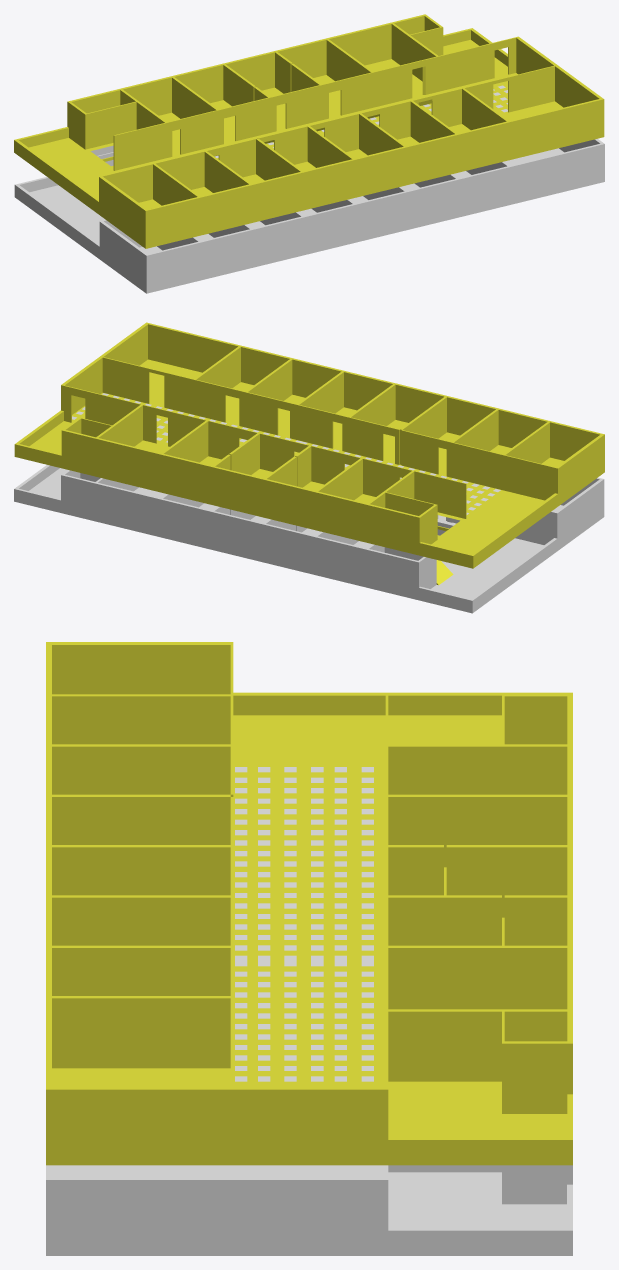
The model's file is doubleStory.fbx.
3 renders of one model, top to bottom at view 1: azimuth 30°, elevation 25°; view 2: azimuth 150°, elevation 25°; view 3: azimuth 270°, elevation 25°, orthographic. The views are drawn at different scales.
Parts seen in each view (by area): view 1: floor3.005, floor3; view 2: floor3.005, floor3, WhiteTiles.003; view 3: floor3.005, floor3, WhiteTiles.003.
Part boxes in pixels (x1,y1,x2,y2): floor3.005: (14,14,604,248); floor3: (14,138,604,293); floor3.005: (14,322,604,585); floor3: (14,465,604,613); WhiteTiles.003: (72,393,500,514); floor3.005: (46,642,572,1165); floor3: (46,1165,572,1255); WhiteTiles.003: (235,767,373,1081).
Size of the model in its own units: 5213 by 899 by 2591.
